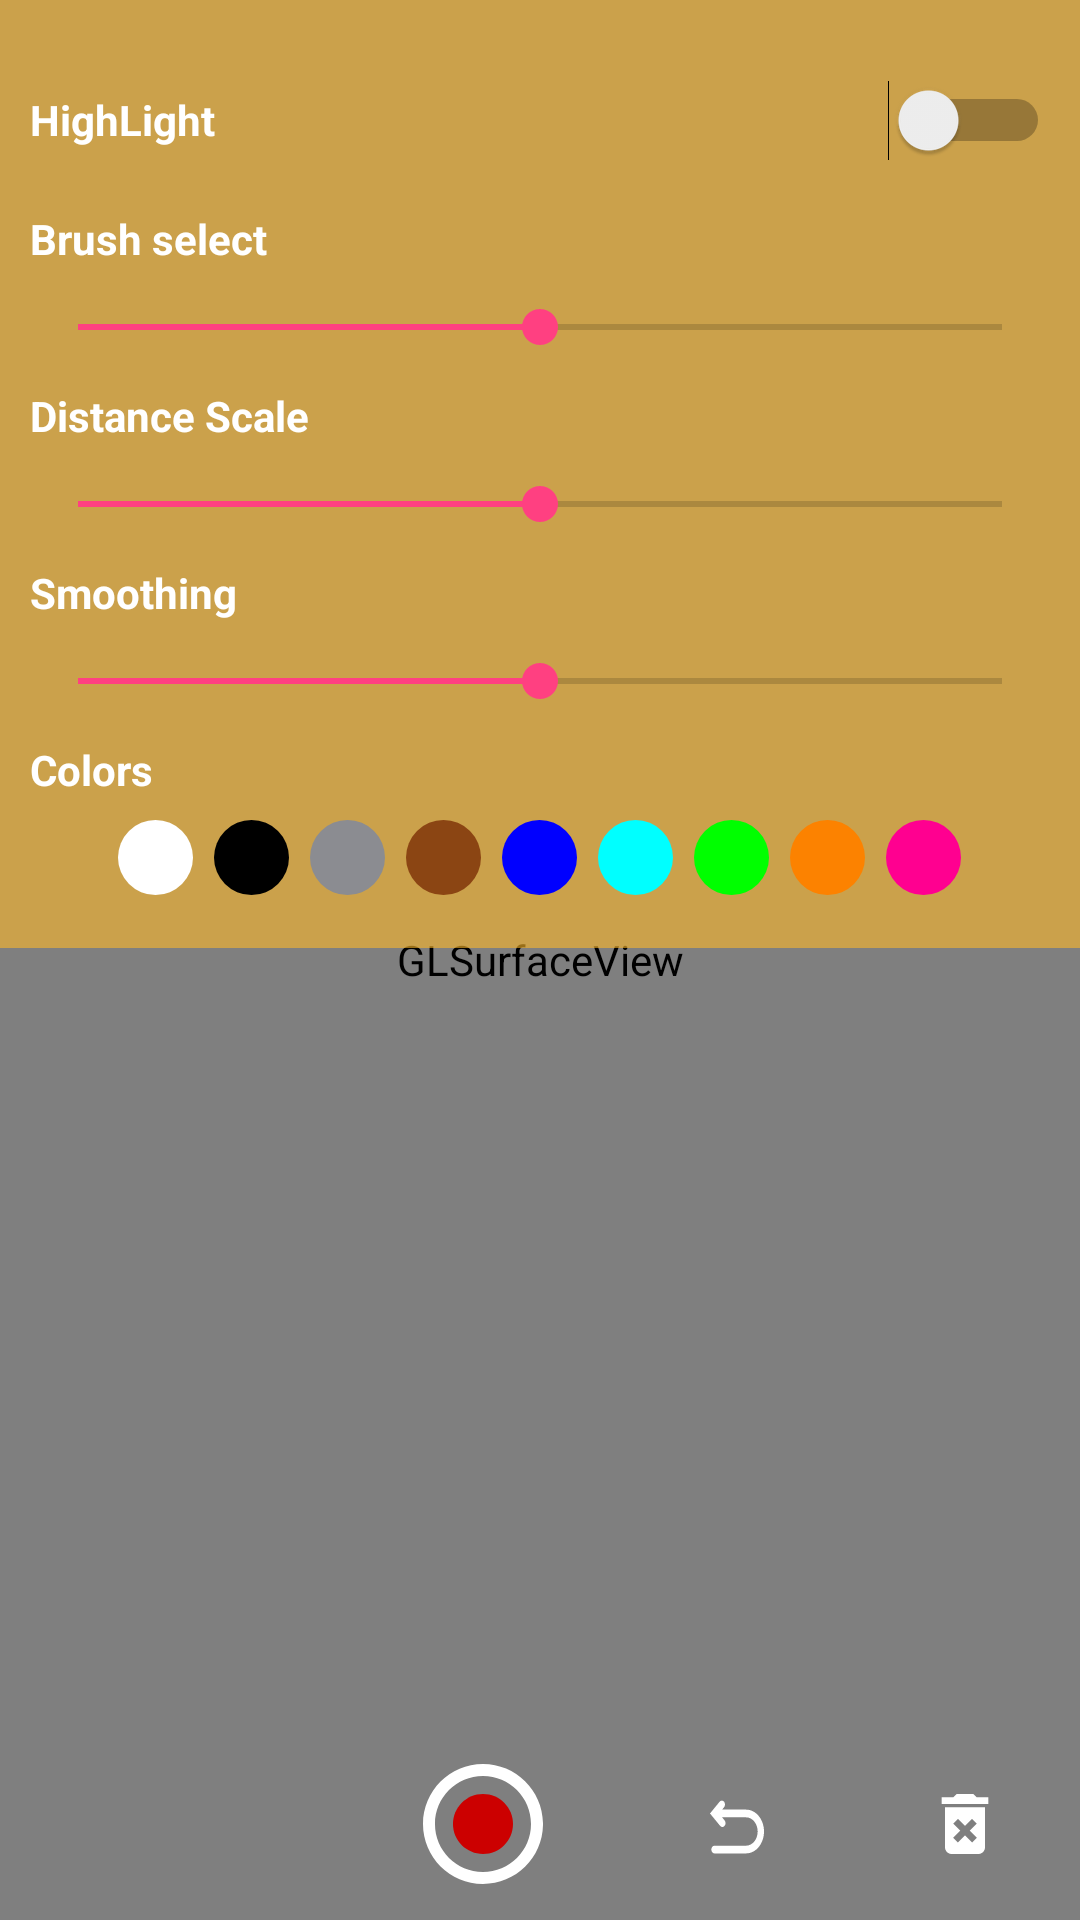

Where to tap for icons on this 1080px×1920px app screen, as (x=x, y=y):
delete all: (x=965, y=1824)
livestart: (x=483, y=1824)
return arrow: (x=737, y=1827)
